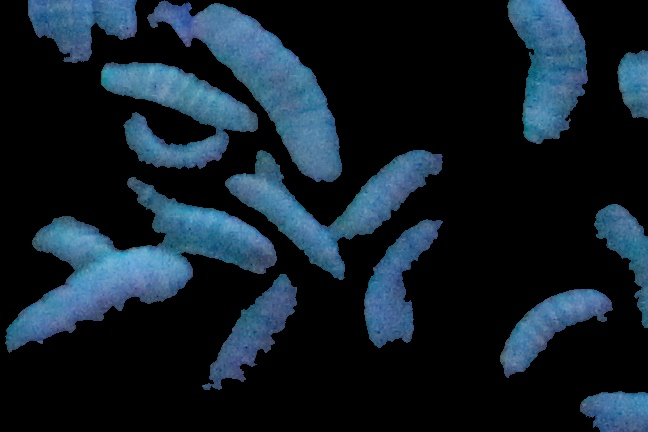larvae: (201, 2, 348, 183), (1, 257, 193, 377), (225, 169, 356, 291), (208, 264, 299, 424), (503, 1, 594, 158), (372, 214, 459, 371), (329, 139, 446, 241), (491, 290, 613, 383), (105, 62, 252, 139), (117, 114, 243, 171), (592, 201, 648, 328), (25, 1, 108, 83), (20, 210, 119, 265), (570, 386, 648, 430), (619, 46, 648, 135)
